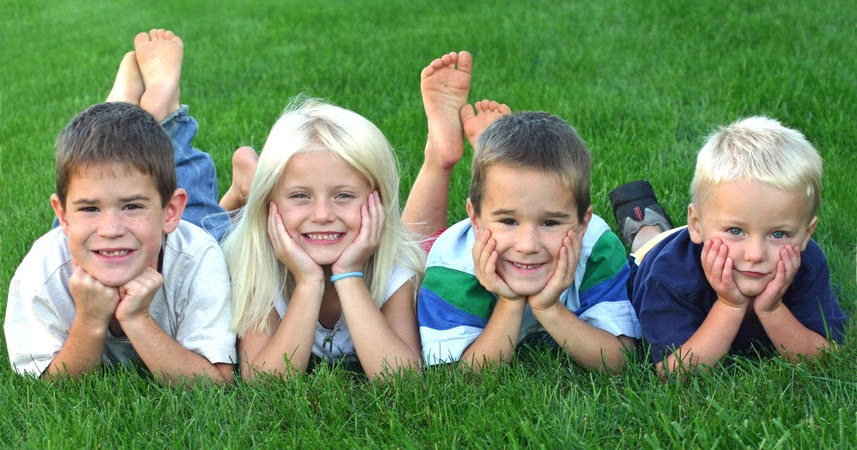human: (8, 24, 239, 399), (387, 34, 633, 378), (605, 111, 853, 374), (219, 110, 433, 414)
